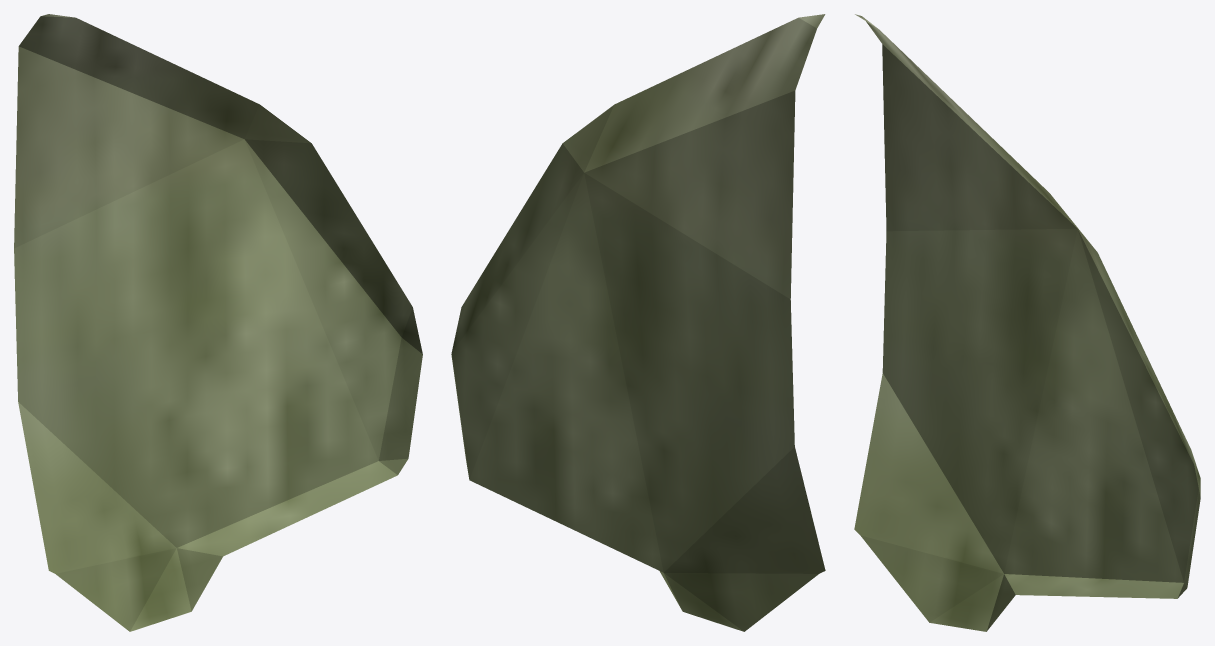
3 views of the same model, side by side, from view 1: azimuth 30°, elevation 25°; view 2: azimuth 150°, elevation 25°; view 3: azimuth 330°, elevation 25° (orthographic). The views are drawn at different scales.
Size of the model in its own units: 0.2387 by 0.3888 by 0.0384.
Materials: 1 (1 with a texture image).
